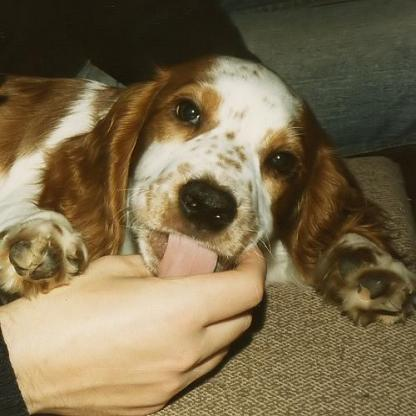Welsh_springer_spaniel: (0, 54, 414, 326)
